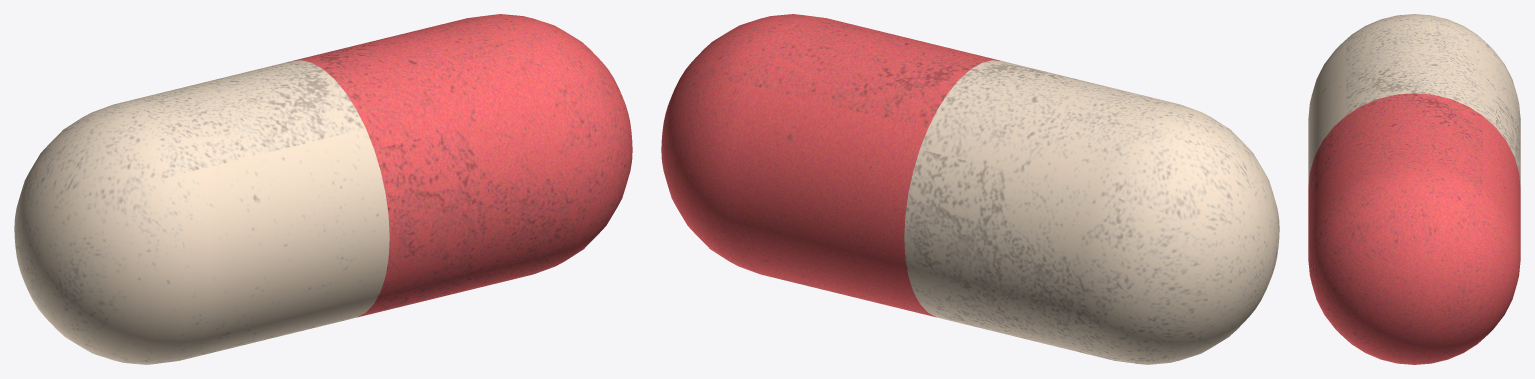
The model's file is Pill.fbx.
3 renders of one model, left to right at view 1: azimuth 30°, elevation 25°; view 2: azimuth 150°, elevation 25°; view 3: azimuth 270°, elevation 25°, orthographic. The views are drawn at different scales.
Visible parts, largest first — view 1: Bright, Darker; view 2: Bright, Darker; view 3: Darker, Bright.
Part boxes in pixels (<box>): Bright: <box>14,60,389,364</box>; Darker: <box>291,14,632,317</box>; Bright: <box>904,60,1279,364</box>; Darker: <box>661,14,1002,317</box>; Darker: <box>1308,93,1520,364</box>; Bright: <box>1308,14,1520,186</box>.
Bounding box in the file's own units: 274 × 108 × 108.
Materials: 2 (2 with a texture image).
